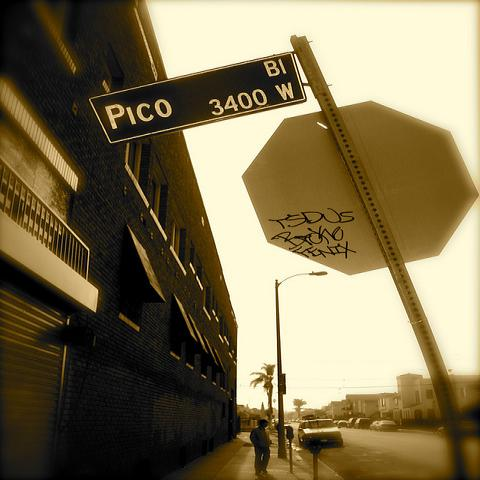car: (298, 418, 343, 450), (374, 421, 398, 432), (354, 418, 373, 429), (368, 421, 382, 431), (337, 420, 352, 429), (346, 418, 359, 428), (284, 420, 292, 428)
